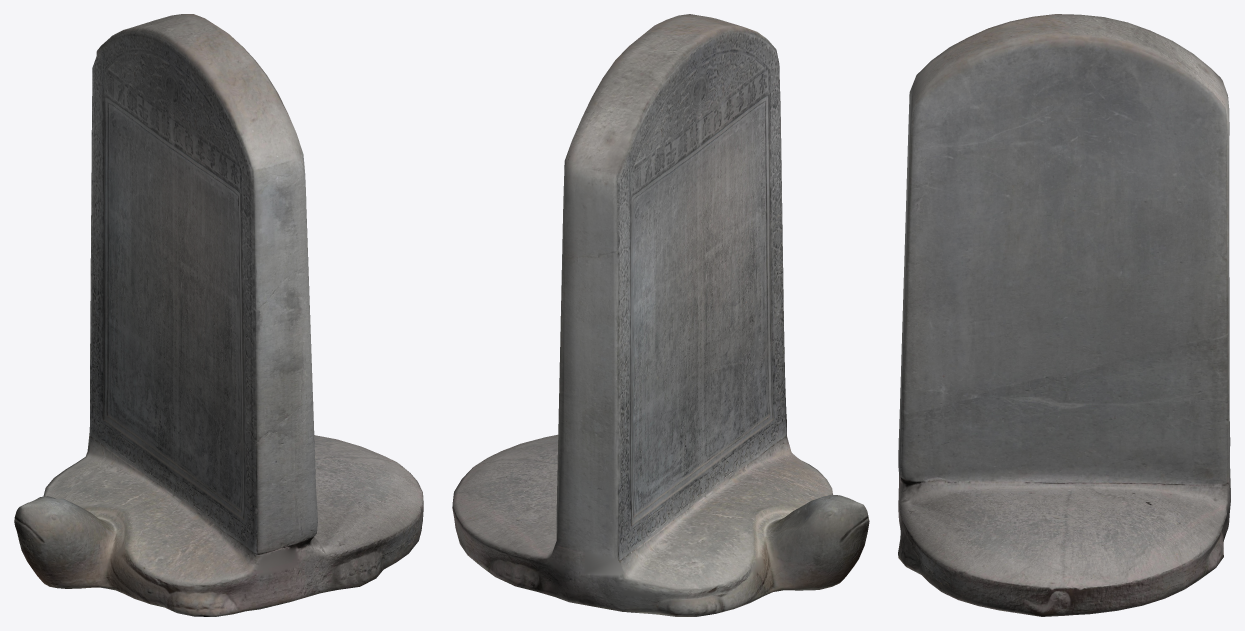
3 renders of one model, left to right at view 1: azimuth 30°, elevation 25°; view 2: azimuth 150°, elevation 25°; view 3: azimuth 270°, elevation 25°, orthographic. The views are drawn at different scales.
Parts seen in each view (by area): view 1: base low; view 2: base low; view 3: base low.
Part boxes in pixels (x1=…): base low: x1=14, y1=14, x2=423, y2=616; base low: x1=452, y1=14, x2=869, y2=616; base low: x1=898, y1=14, x2=1230, y2=616.
Size of the model in its own units: 6.58 by 8.19 by 4.96.
Materials: 1 (1 with a texture image).
